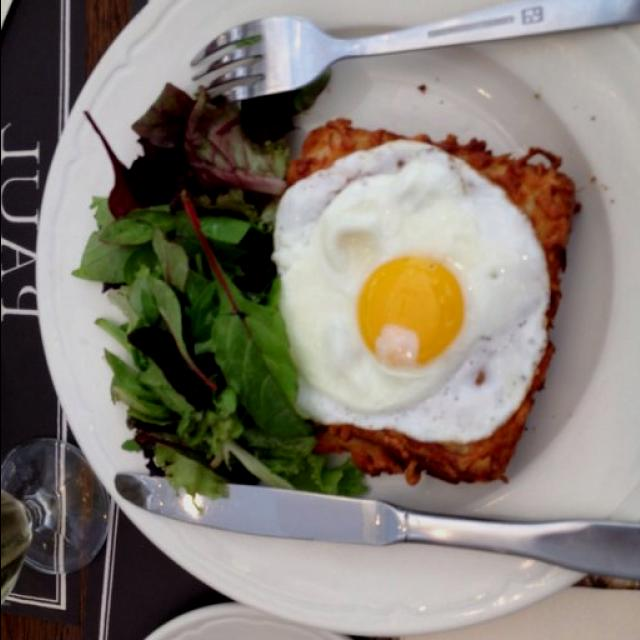telur ceplok: (272, 138, 562, 456)
